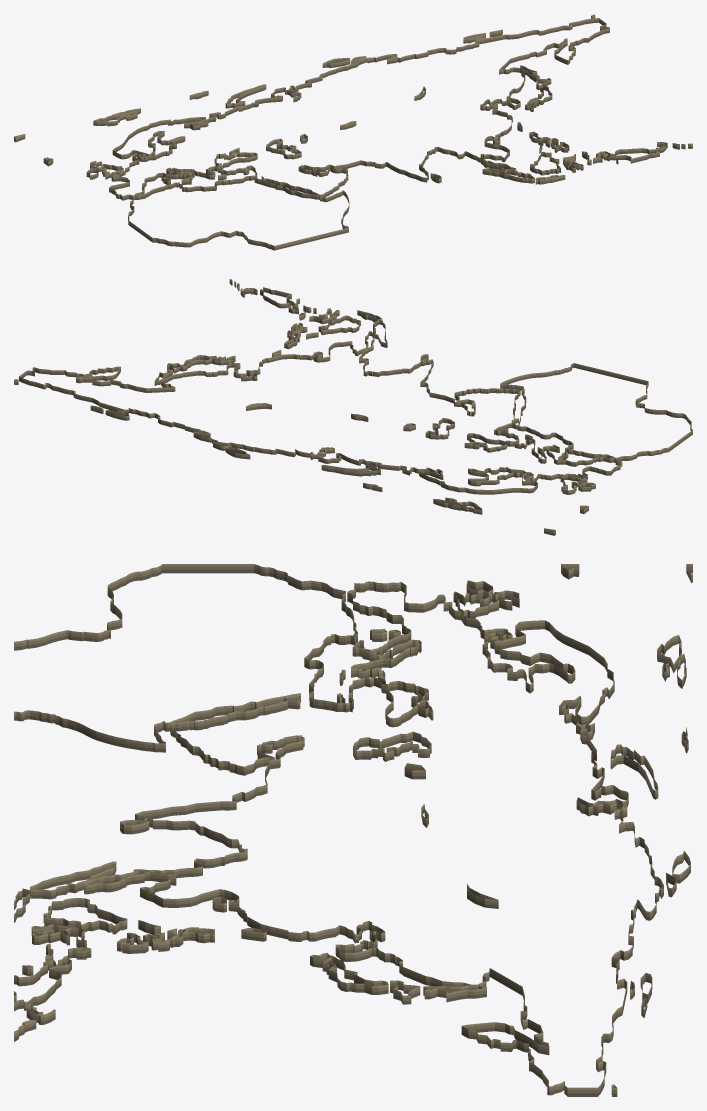
Rendered from coast.glb.
The picture shows the model from 3 angles, top to bottom: view 1: azimuth 30°, elevation 25°; view 2: azimuth 150°, elevation 25°; view 3: azimuth 270°, elevation 25°; orthographic projection. The views are drawn at different scales.
Parts seen in each view (by area): view 1: Stratified coastal cut; view 2: Stratified coastal cut; view 3: Stratified coastal cut.
Part boxes in pixels (x1=…): Stratified coastal cut: x1=14, y1=14, x2=692, y2=250; Stratified coastal cut: x1=14, y1=279, x2=692, y2=535; Stratified coastal cut: x1=14, y1=564, x2=692, y2=1096.
Size of the model in its own units: 176 by 1.42 by 96.66.
